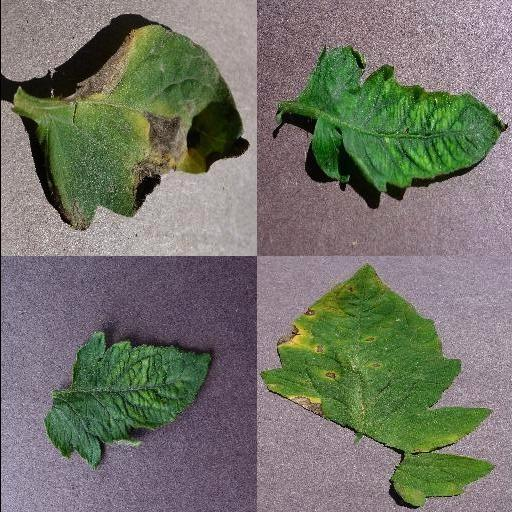Early Blight: (36, 22, 248, 231)
Mosaic Virus: (296, 43, 508, 195), (45, 332, 213, 472)
Septoria: (260, 262, 493, 452)
